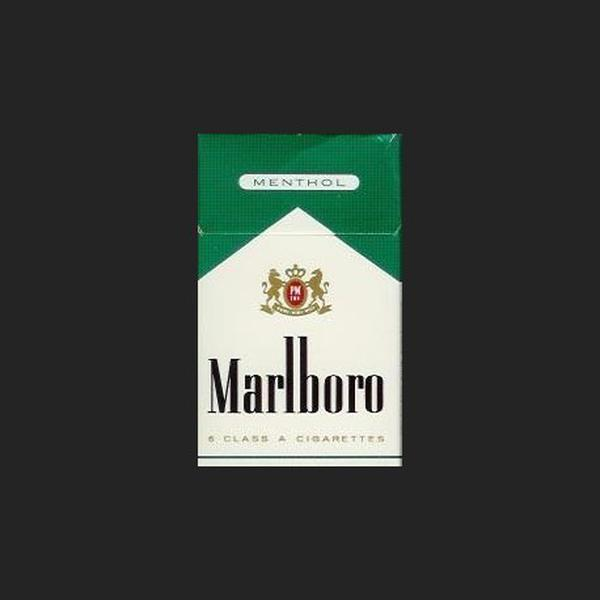marlboro_mentol: (197, 137, 403, 469)
